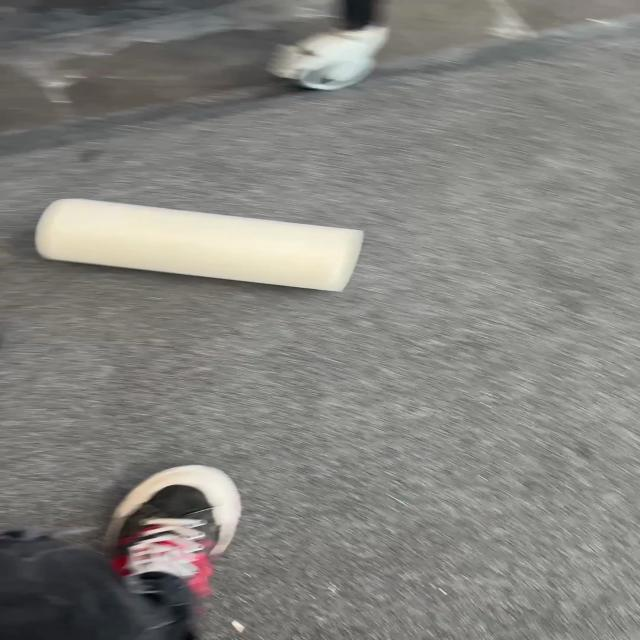Coral: (33, 196, 365, 293)
